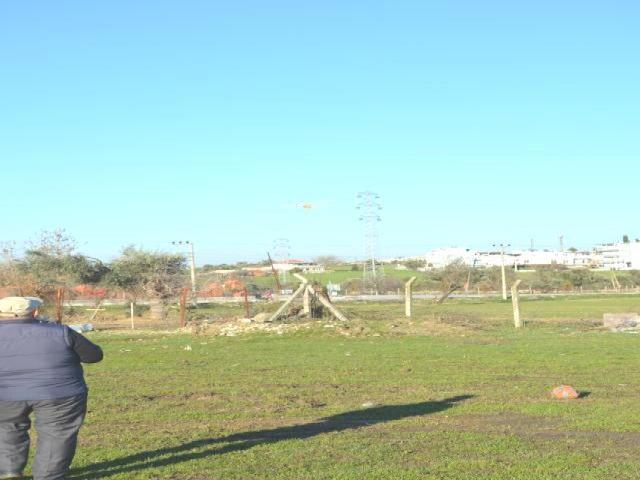iha: (280, 201, 332, 209)
